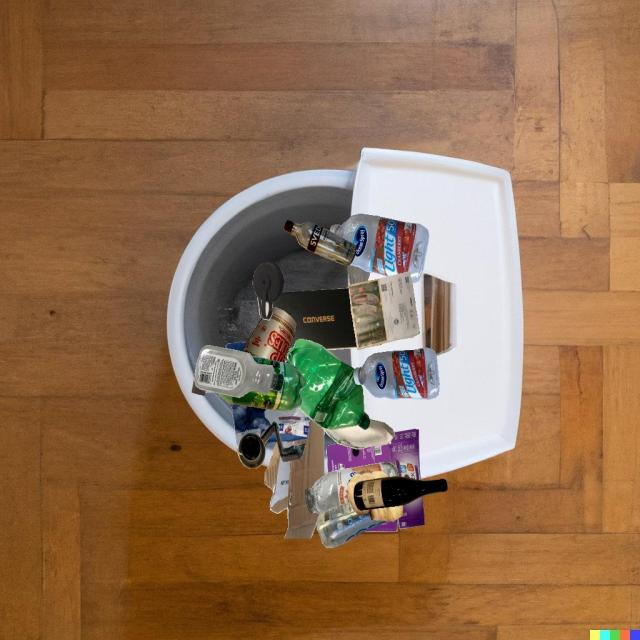biowaste: (347, 471, 403, 521)
cardboard: (264, 420, 324, 539), (212, 346, 288, 410), (326, 429, 421, 480), (273, 288, 355, 334), (363, 496, 425, 532), (231, 403, 272, 447), (272, 408, 311, 442), (274, 433, 306, 462)
glass: (305, 462, 399, 515), (284, 220, 356, 266), (353, 476, 448, 510), (237, 432, 266, 469), (347, 265, 370, 284)
paper: (348, 272, 420, 350), (322, 419, 395, 449)
plastic: (285, 339, 370, 430), (329, 214, 429, 283), (218, 356, 306, 412), (194, 345, 284, 398), (353, 347, 440, 399), (317, 502, 390, 548), (253, 262, 284, 320)
trash: (242, 306, 297, 363)
